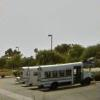Bus: (18, 61, 92, 90)
